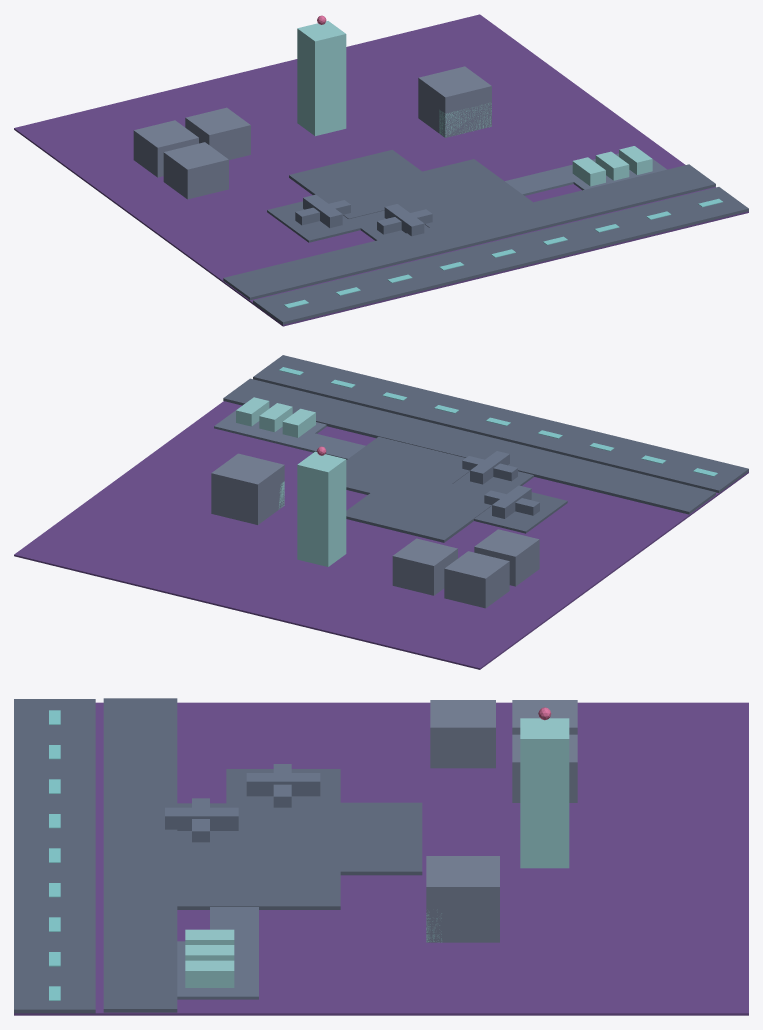
The model's file is stage_12.glb.
3 views of the same model, one above another, from view 1: azimuth 30°, elevation 25°; view 2: azimuth 150°, elevation 25°; view 3: azimuth 270°, elevation 25° (orthographic). The views are drawn at different scales.
Parts seen in each view (by area): view 1: geometry_0; view 2: geometry_0; view 3: geometry_0.
Part boxes in pixels (bbox=[...]): geometry_0: bbox=[14, 14, 748, 326]; geometry_0: bbox=[14, 355, 748, 669]; geometry_0: bbox=[14, 698, 748, 1015].
Bounding box in the file's own units: 9 × 2.06 × 9.
